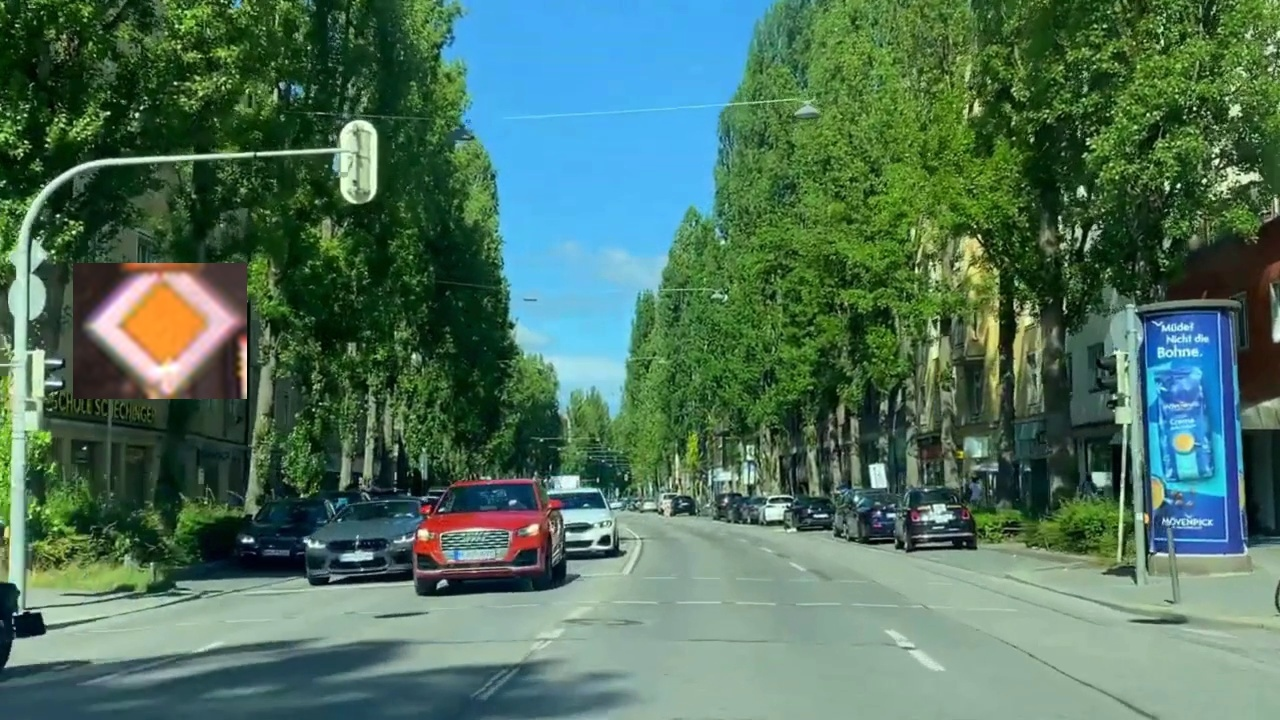Priority road: (73, 263, 247, 399)
